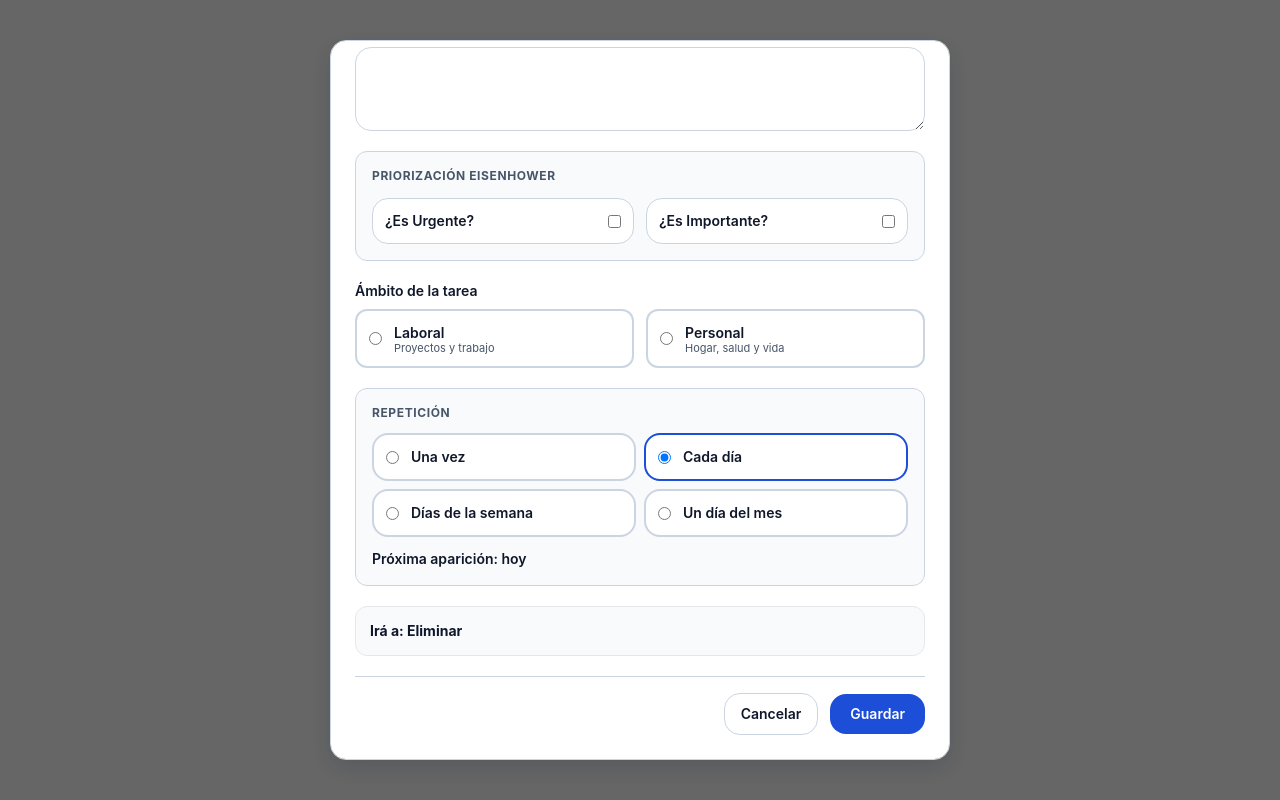
it: <ScheduleForm> (crear) › con todo vacío muestra los errores en línea de S4 y no envía nada
The image size is (1280, 800).
(page scrolled)
Click the button "Guardar": (878, 714) [830, 694, 925, 734]
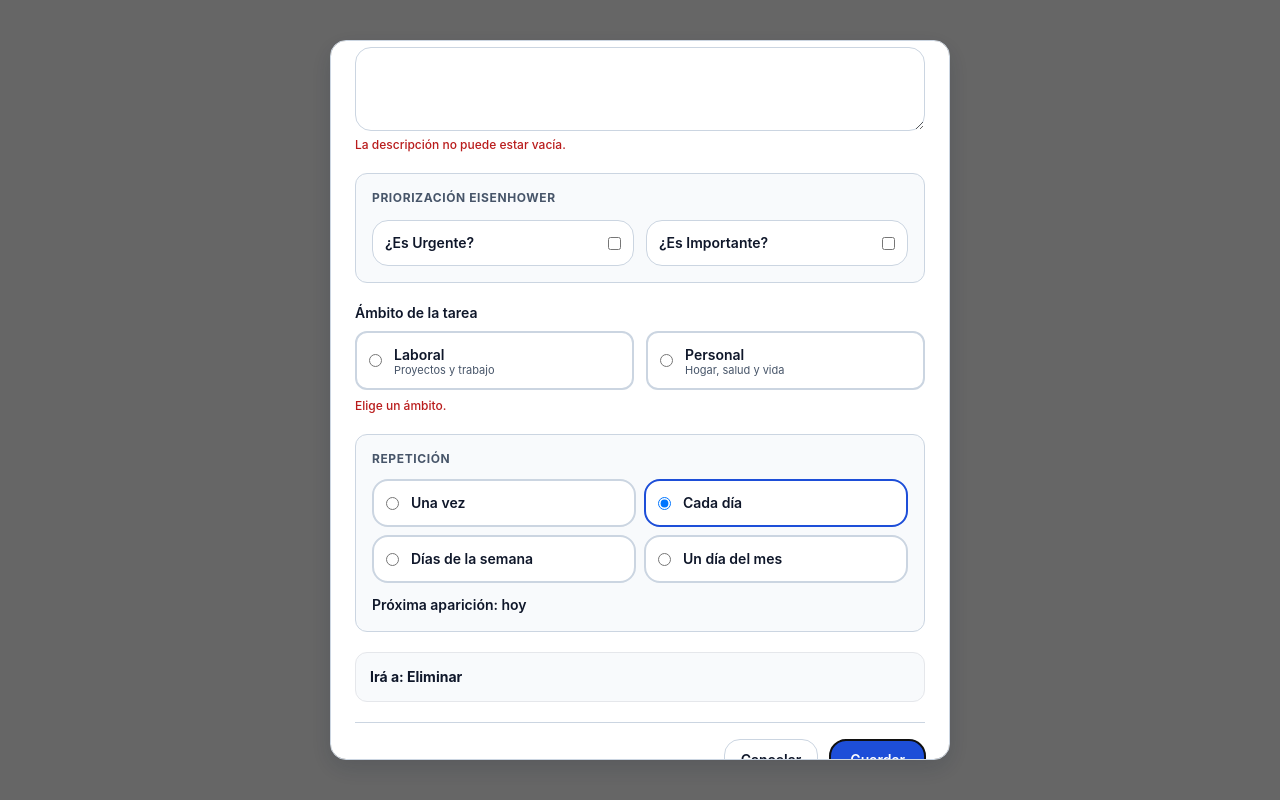
Result: the text "La descripción no puede estar vacía." is shown at [355, 137, 566, 152]
Result: the text "Elige un ámbito." is shown at [355, 398, 446, 413]
